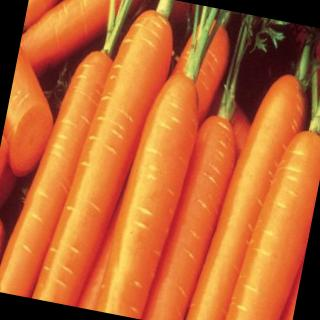Wortel: (32, 1, 180, 315), (1, 40, 117, 306), (93, 65, 208, 320), (140, 109, 244, 320), (219, 122, 320, 320)
